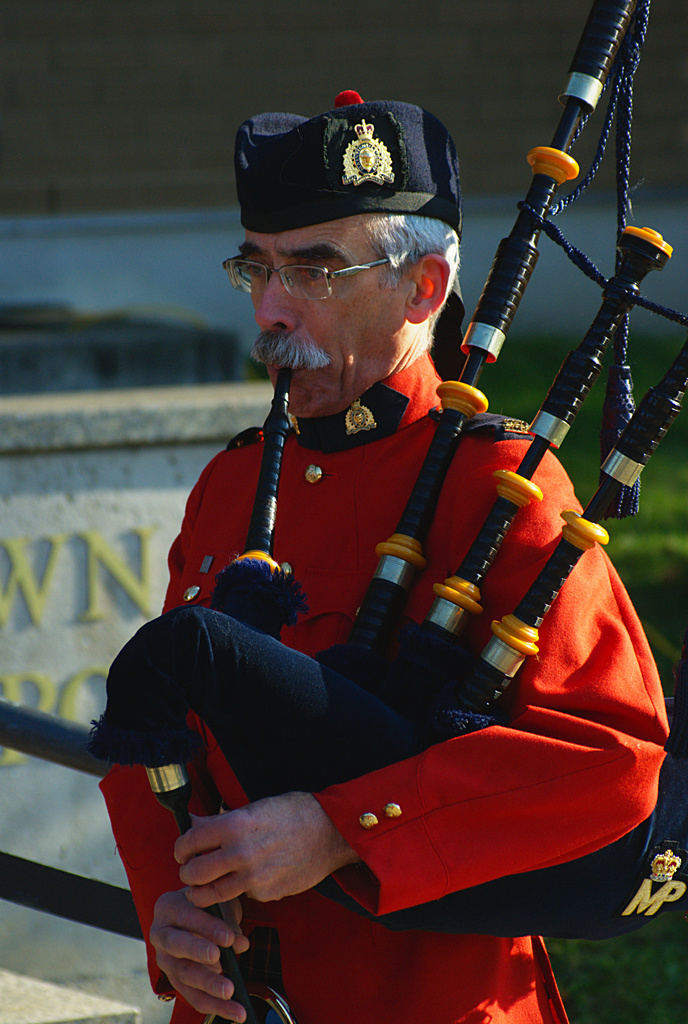Person: (97, 88, 669, 1023)
